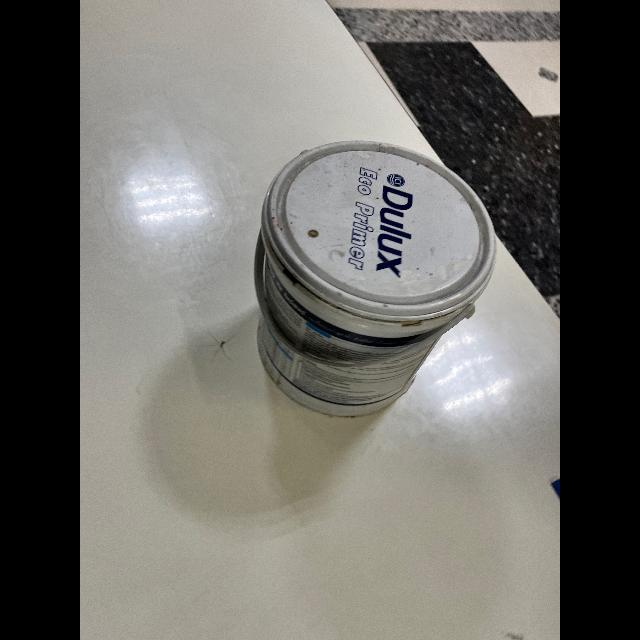paint_bucket: (236, 121, 504, 425)
